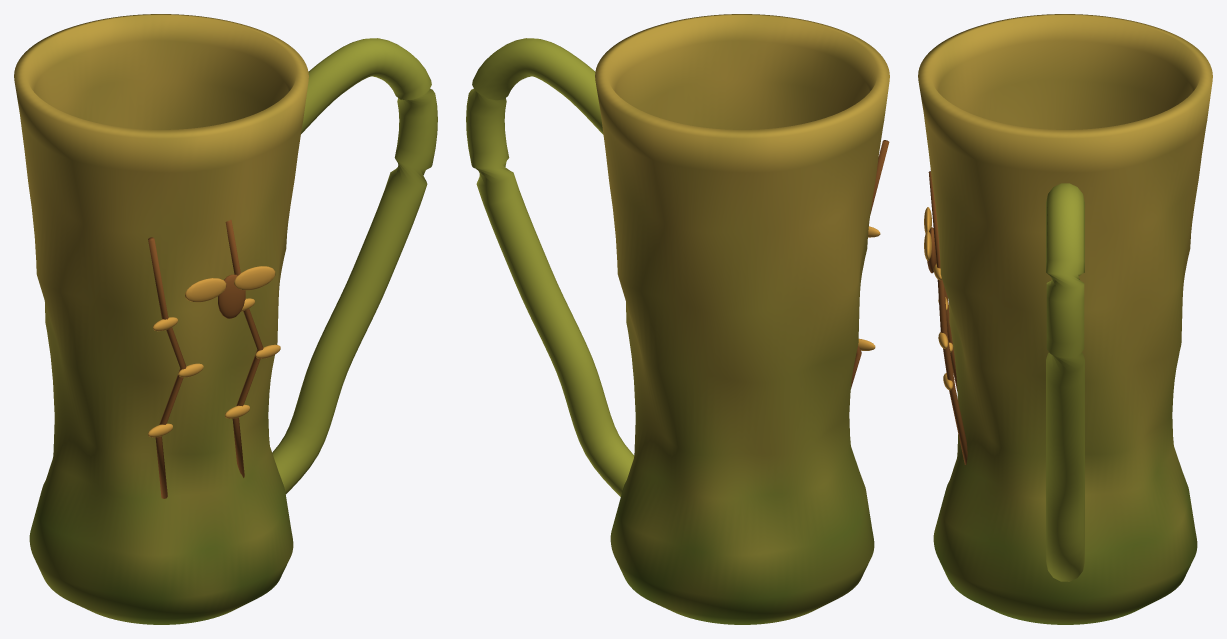
File: bcm-997-exhibit.glb
The picture shows the model from 3 angles, left to right: view 1: azimuth 30°, elevation 25°; view 2: azimuth 150°, elevation 25°; view 3: azimuth 270°, elevation 25°; orthographic projection.
Parts seen in each view (by area): view 1: Gallé mug | yellow-green glass body, Sweeping glass handle, Enamelled stem, Enamelled stem.001, Insect enamel body, Insect enamel wing, Insect enamel wing.001; view 2: Gallé mug | yellow-green glass body, Sweeping glass handle; view 3: Gallé mug | yellow-green glass body, Sweeping glass handle, Enamelled stem.001.
Part boxes in pixels (x1,y1,x2,y2): Gallé mug | yellow-green glass body: [14, 14, 308, 624]; Sweeping glass handle: [272, 38, 437, 494]; Enamelled stem: [148, 237, 186, 498]; Enamelled stem.001: [225, 220, 263, 477]; Insect enamel body: [218, 274, 245, 318]; Insect enamel wing: [185, 278, 226, 302]; Insect enamel wing.001: [234, 266, 275, 290]; Gallé mug | yellow-green glass body: [595, 14, 889, 624]; Sweeping glass handle: [466, 38, 634, 496]; Gallé mug | yellow-green glass body: [918, 14, 1212, 624]; Sweeping glass handle: [1046, 183, 1084, 581]; Enamelled stem.001: [928, 171, 967, 464].
Size of the model in its own units: 0.1148 by 0.14 by 0.0729.
